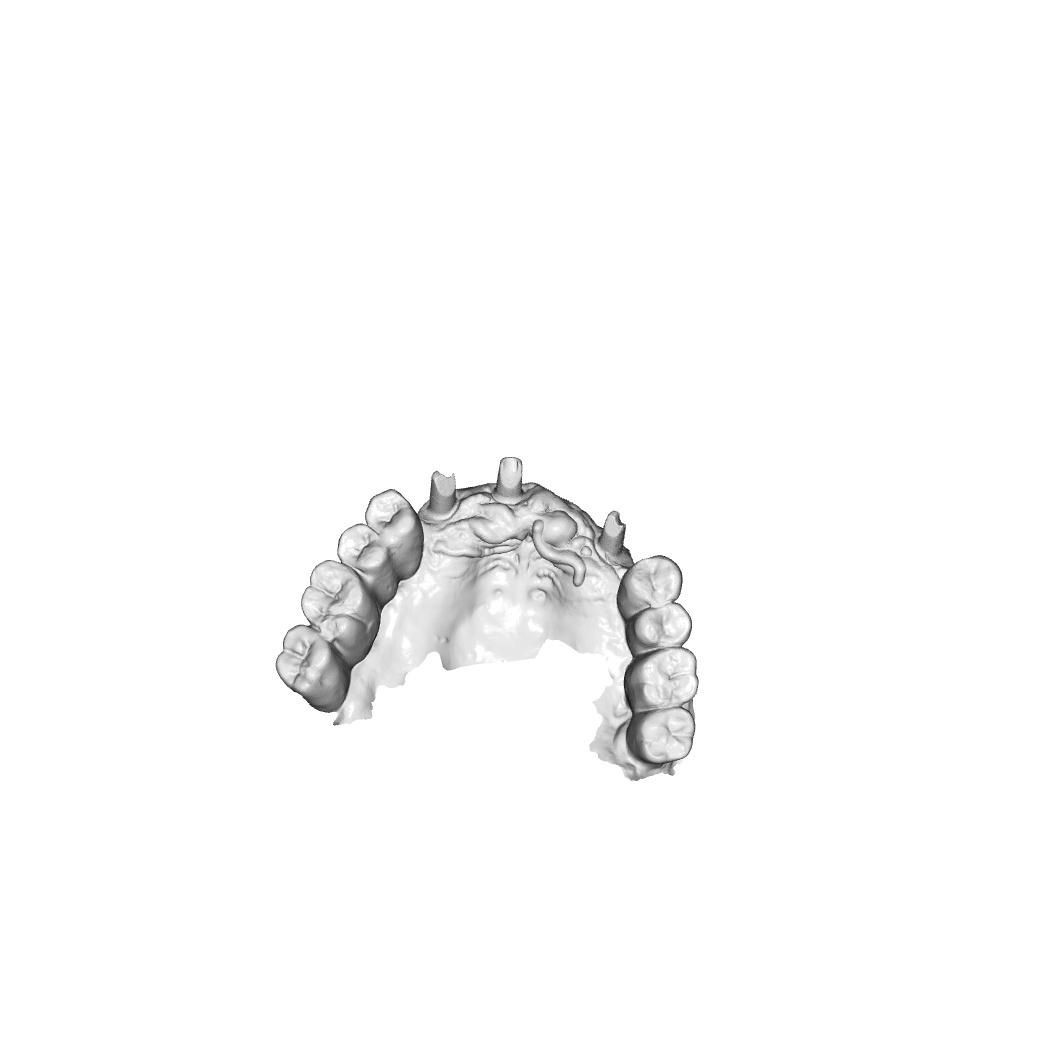abutment: (418, 467, 462, 525), (592, 509, 631, 569), (489, 456, 530, 506)
molar: (299, 559, 382, 658), (274, 624, 351, 714), (623, 646, 699, 714), (625, 706, 696, 765)
premolar: (363, 487, 425, 567), (335, 522, 397, 597), (615, 554, 685, 620), (624, 601, 693, 658)
